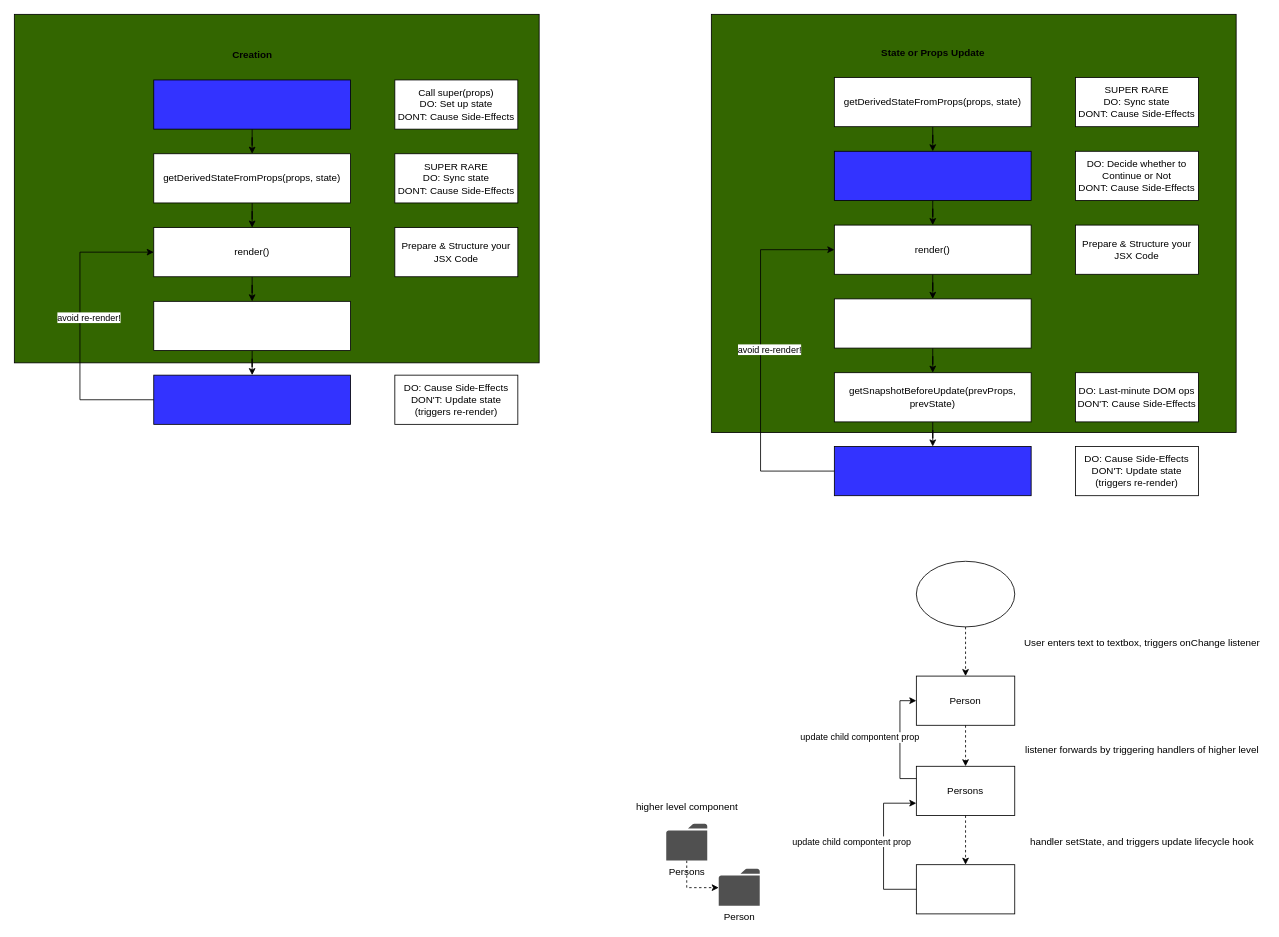
Image size: 1279x937. Some labels were removed from this diagram. The shapes that lost their labels are listed below. From the top down, each one's centre as x and y in pixels, then its label:
At pixel 252 104: "constructor(props)".
At pixel 932 175: "shouldComponentUpdate(nextProps, nextState)".
At pixel 252 326: "Render Child Compontents".
At pixel 932 323: "Update Child Component Props".
At pixel 252 399: "compontentDidMount()".
At pixel 932 471: "compontentDidUpdate()".
At pixel 965 593: "onChange()".
At pixel 965 889: "App.js".
